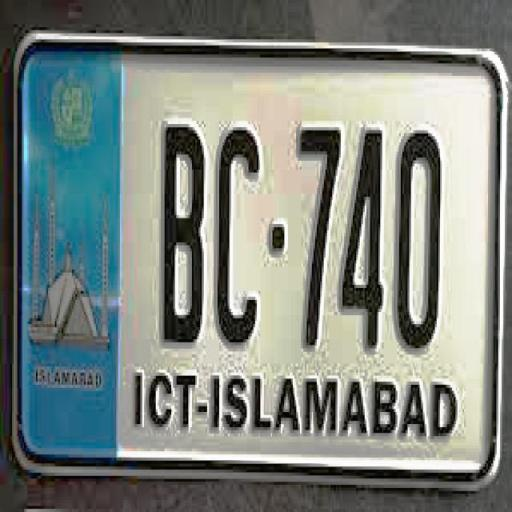0: (391, 132, 454, 346)
4: (346, 123, 386, 359)
7: (290, 131, 334, 346)
B: (156, 119, 211, 346)
C: (216, 120, 262, 356)
